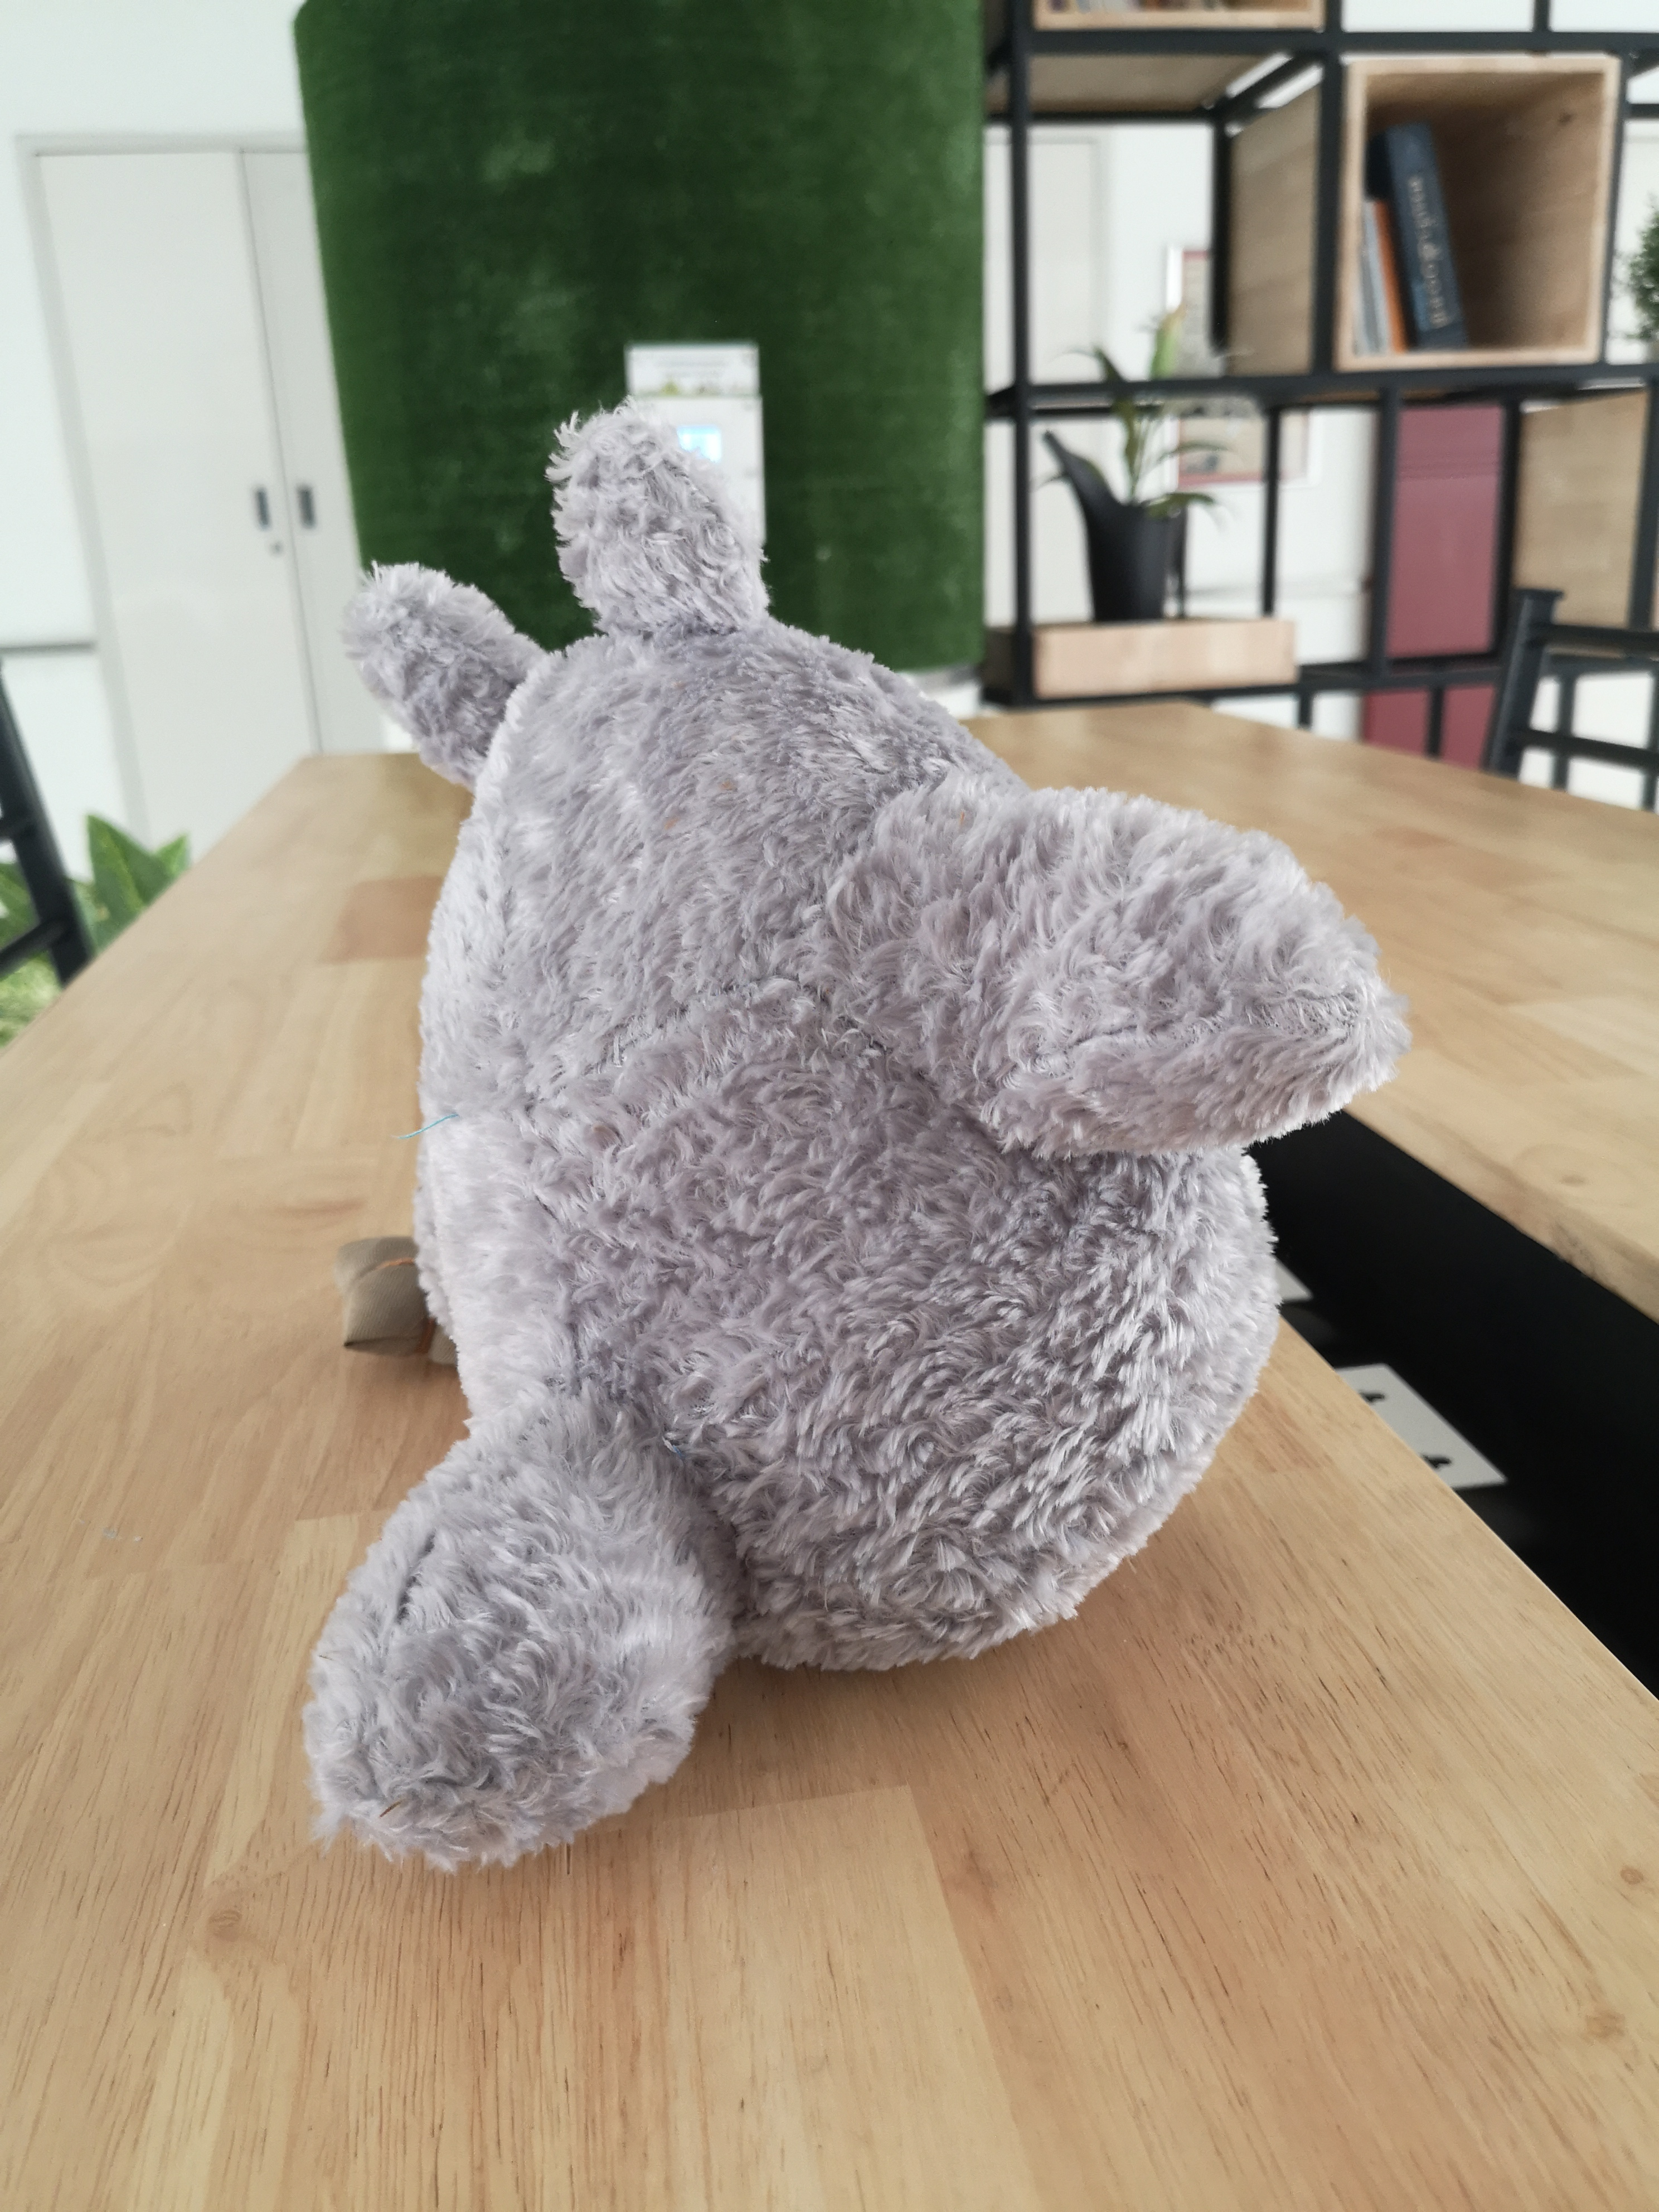totoro: (295, 378, 1408, 1881)
